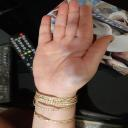OpenPalm: (31, 0, 115, 97)
